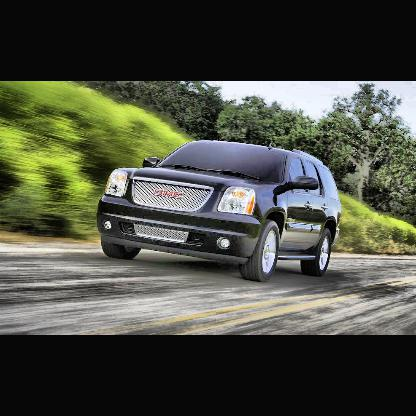GMC Yukon Hybrid SUV 2012: (96, 138, 343, 284)
